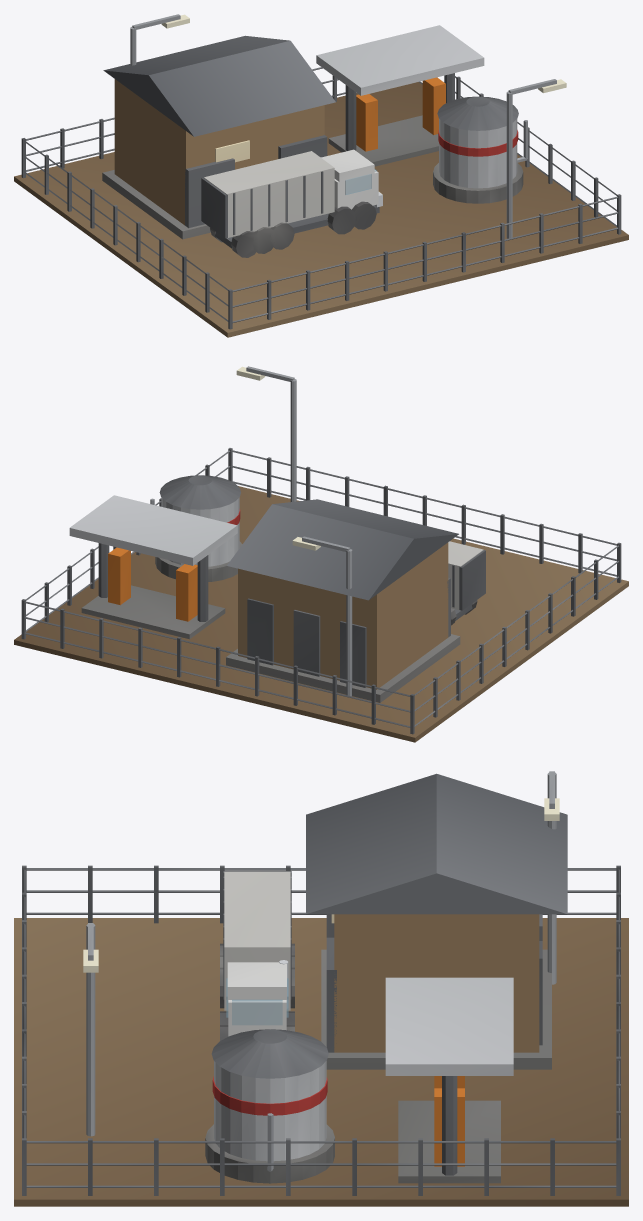
File: Fleet_P1.fbx
3 renders of one model, top to bottom at view 1: azimuth 30°, elevation 25°; view 2: azimuth 150°, elevation 25°; view 3: azimuth 270°, elevation 25°, orthographic. The views are drawn at different scales.
Visible parts, largest first — view 1: Fleet.Yard, Fleet.Garage, Fleet.Parked0, Fleet.FuelIsland, Fleet.Fence, Fleet.FuelTank, Fleet.Doors, Fleet.Lamp1, Fleet.Lamp0; view 2: Fleet.Garage, Fleet.Yard, Fleet.FuelIsland, Fleet.Fence, Fleet.FuelTank, Fleet.Parked0, Fleet.Lamp0, Fleet.Lamp1; view 3: Fleet.Yard, Fleet.Garage, Fleet.FuelIsland, Fleet.FuelTank, Fleet.Fence, Fleet.Parked0, Fleet.Lamp1, Fleet.Lamp0, Fleet.Doors.
Part boxes in pixels (x1,y1,x2,y2): Fleet.Yard: (14, 82, 628, 337); Fleet.Garage: (102, 35, 335, 239); Fleet.Parked0: (201, 149, 382, 257); Fleet.FuelIsland: (316, 25, 484, 166); Fleet.Fence: (21, 67, 621, 329); Fleet.FuelTank: (433, 96, 527, 203); Fleet.Doors: (185, 135, 327, 228); Fleet.Lamp1: (506, 79, 566, 238); Fleet.Lamp0: (130, 14, 189, 65); Fleet.Garage: (226, 499, 460, 702); Fleet.Yard: (14, 486, 628, 742); Fleet.FuelIsland: (69, 495, 237, 639); Fleet.Fence: (21, 448, 621, 734); Fleet.FuelTank: (150, 475, 242, 581); Fleet.Parked0: (448, 541, 485, 625); Fleet.Lamp0: (292, 536, 352, 696); Fleet.Lamp1: (236, 366, 296, 501); Fleet.Yard: (14, 918, 628, 1206); Fleet.Garage: (306, 773, 567, 1069); Fleet.FuelIsland: (385, 977, 513, 1183); Fleet.FuelTank: (205, 1029, 334, 1183); Fleet.Fence: (22, 865, 620, 1195); Fleet.Parked0: (220, 871, 294, 1040); Fleet.Lamp1: (83, 923, 98, 1136); Fleet.Lamp0: (544, 771, 559, 984); Fleet.Doors: (326, 914, 336, 1052).
Size of the model in its own units: 2600 by 942 by 2400.
